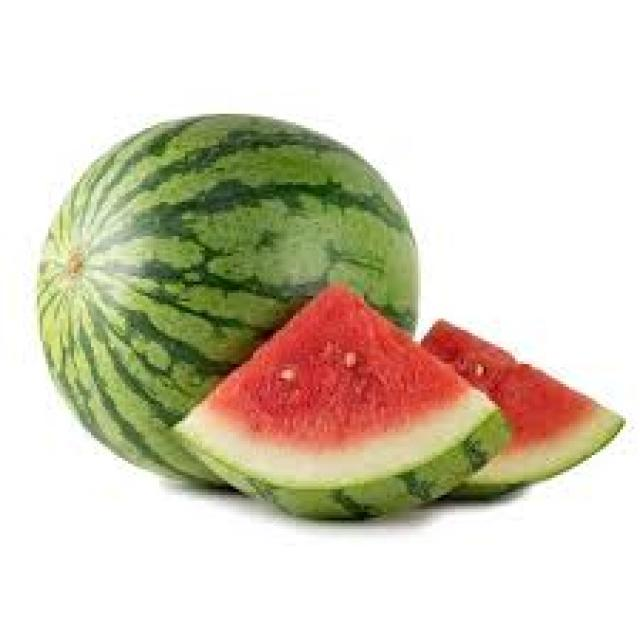watermelon: (34, 108, 421, 492), (171, 282, 509, 520), (415, 316, 626, 500)
